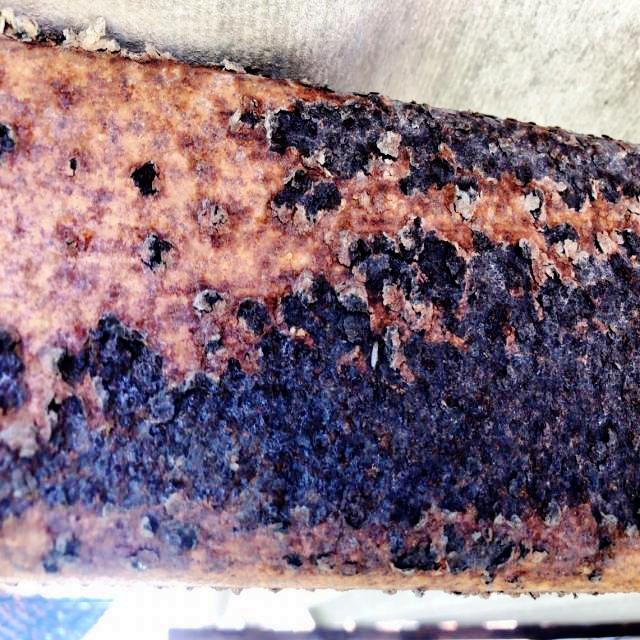Corrosion: (0, 35, 640, 595)
